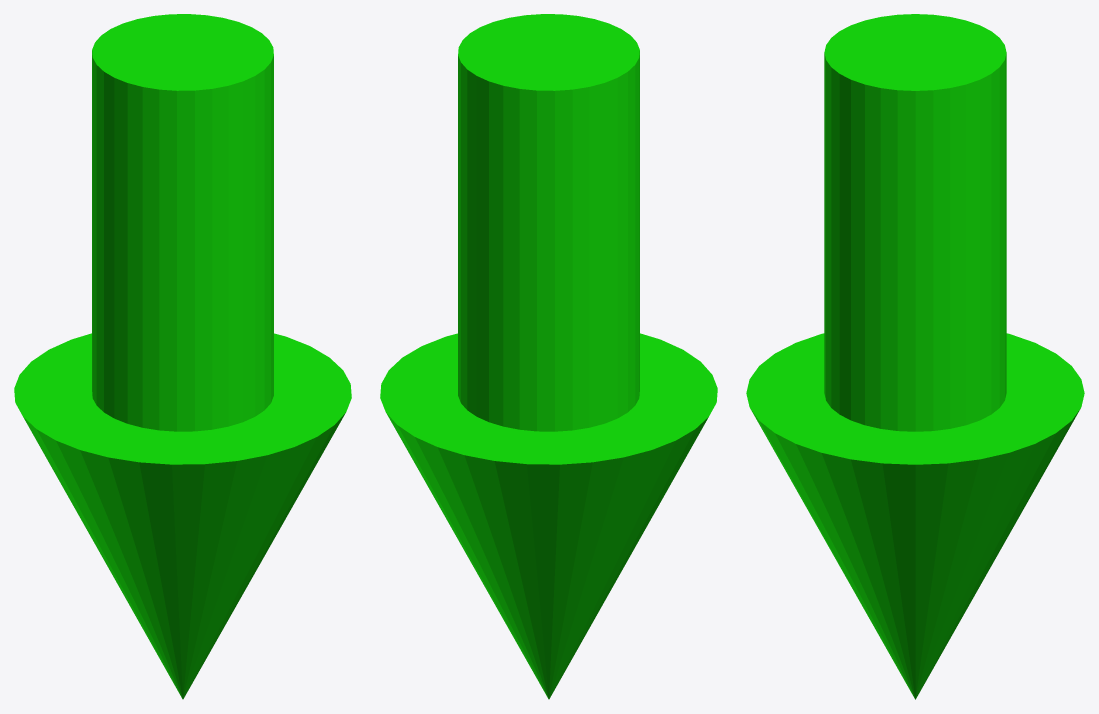
The model's file is flch.glb.
The picture shows the model from 3 angles, left to right: view 1: azimuth 30°, elevation 25°; view 2: azimuth 150°, elevation 25°; view 3: azimuth 270°, elevation 25°; orthographic projection.
Parts seen in each view (by area): view 1: Cylinder; view 2: Cylinder; view 3: Cylinder.
Boxes of the visible parts, box(x1,y1,x2,y2) form: Cylinder: box(14, 14, 351, 699); Cylinder: box(380, 14, 717, 699); Cylinder: box(746, 14, 1084, 699).
Size of the model in its own units: 3.71 by 7.84 by 3.71.
